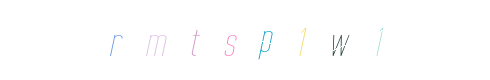1: (262, 0, 342, 80), (301, 0, 381, 80)
M: (182, 0, 262, 80)
P: (222, 0, 302, 80)
R: (175, 0, 255, 80)
S: (204, 0, 284, 80)
T: (186, 0, 266, 80)
W: (298, 0, 378, 80)
